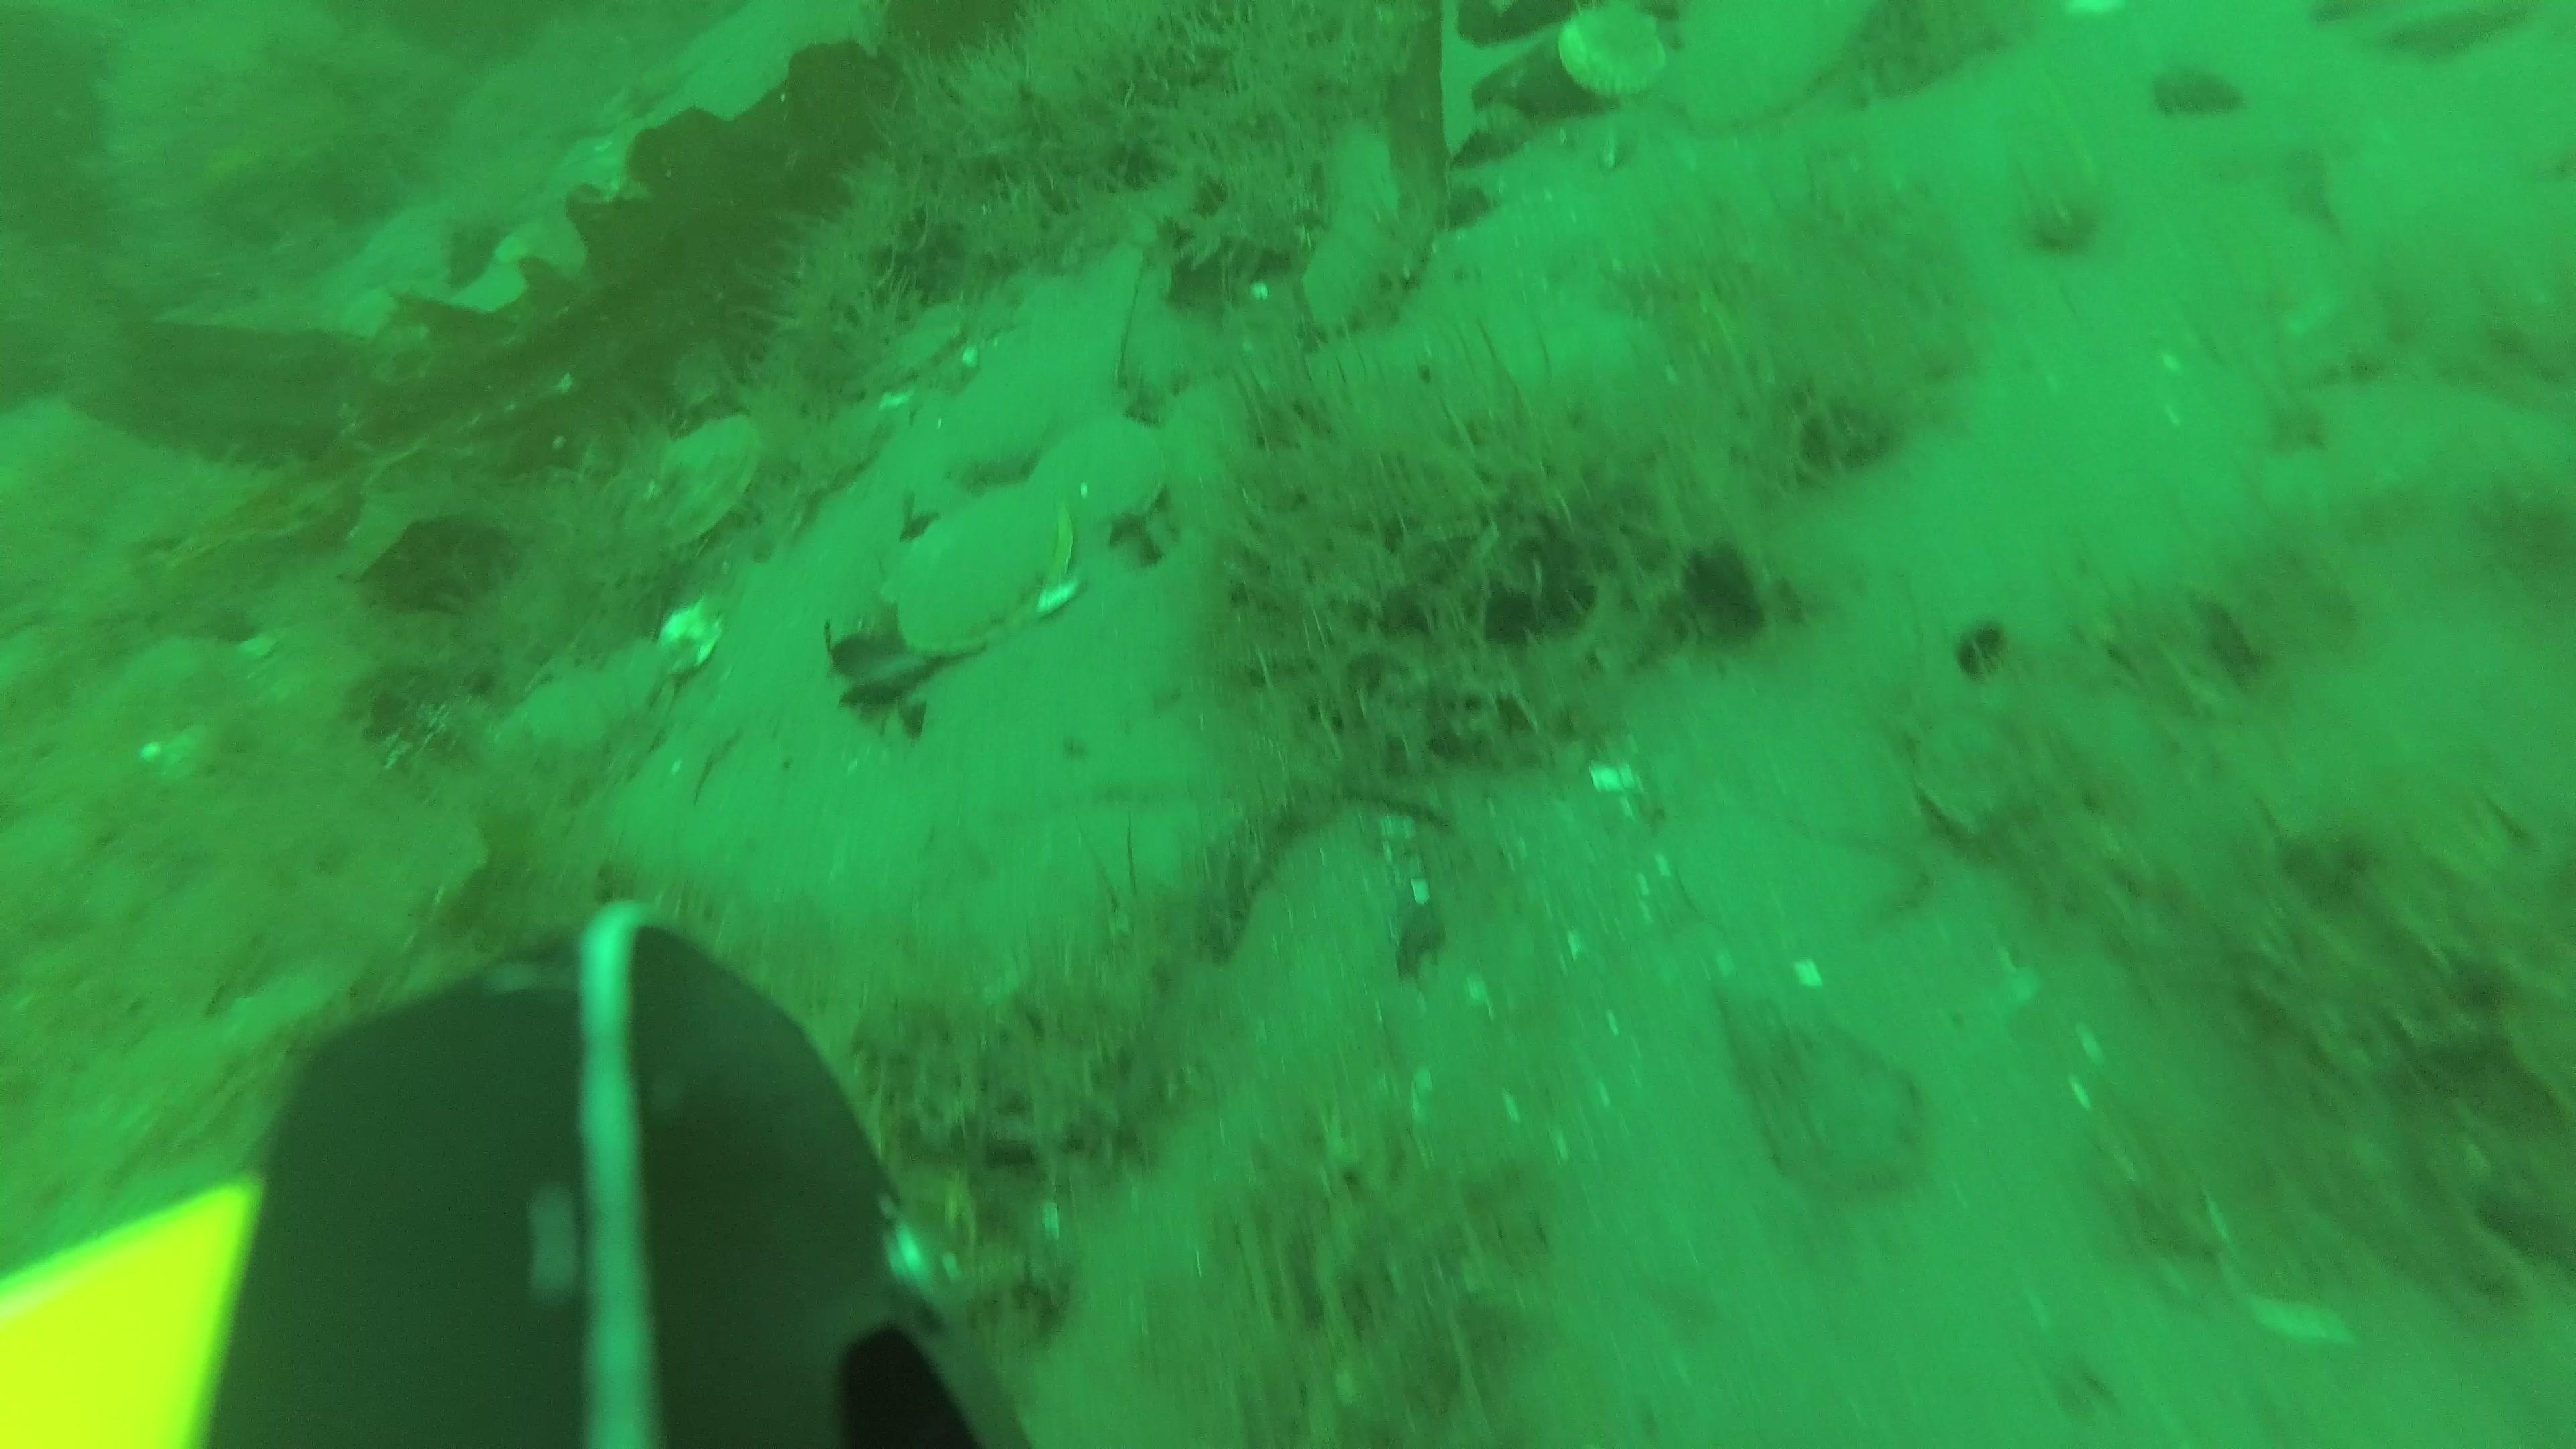scallop: (888, 488, 1085, 660), (1660, 4, 1884, 136), (612, 410, 770, 552), (1033, 416, 1169, 531), (1553, 4, 1674, 103)
